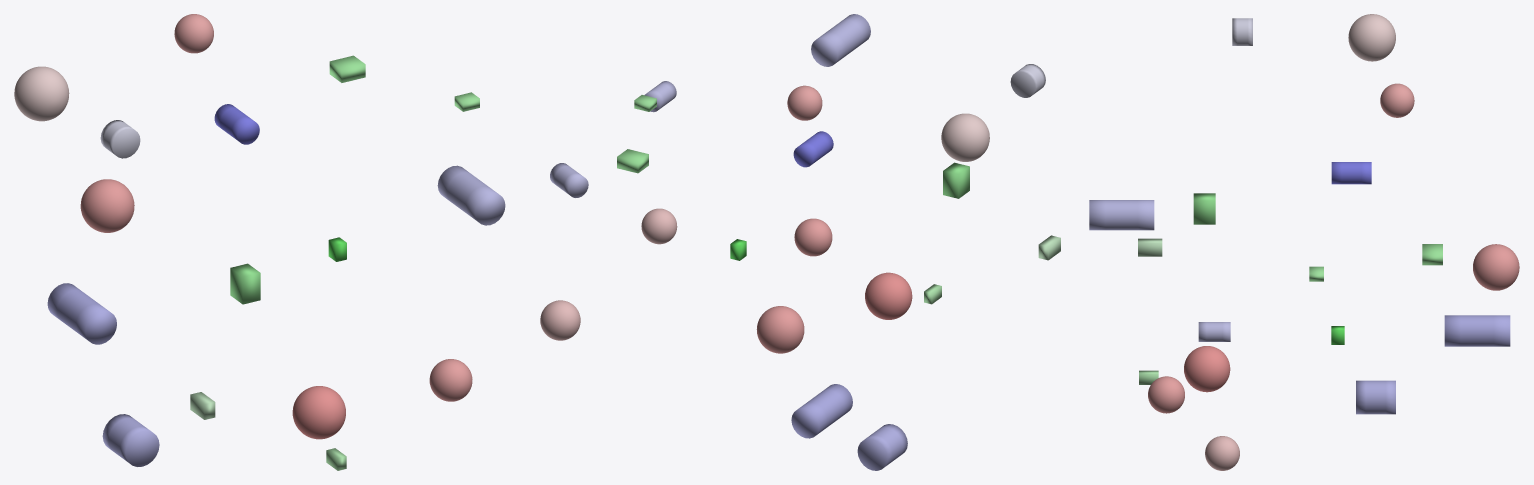
File: scene_open3d.obj
3 renders of one model, left to right at view 1: azimuth 30°, elevation 25°; view 2: azimuth 150°, elevation 25°; view 3: azimuth 270°, elevation 25°, orthographic. The views are drawn at different scales.
Size of the model in its own units: 4.28 by 3.58 by 3.88.
